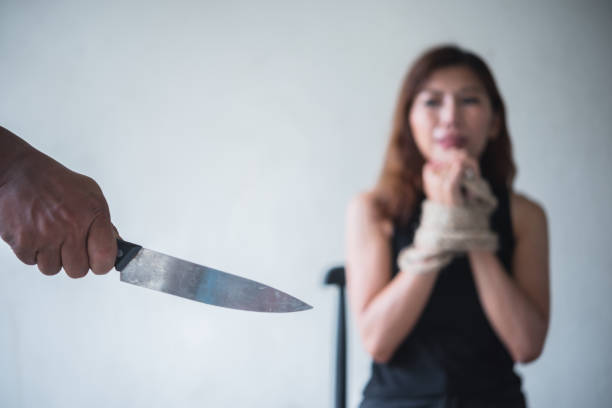knife: (110, 234, 314, 317)
